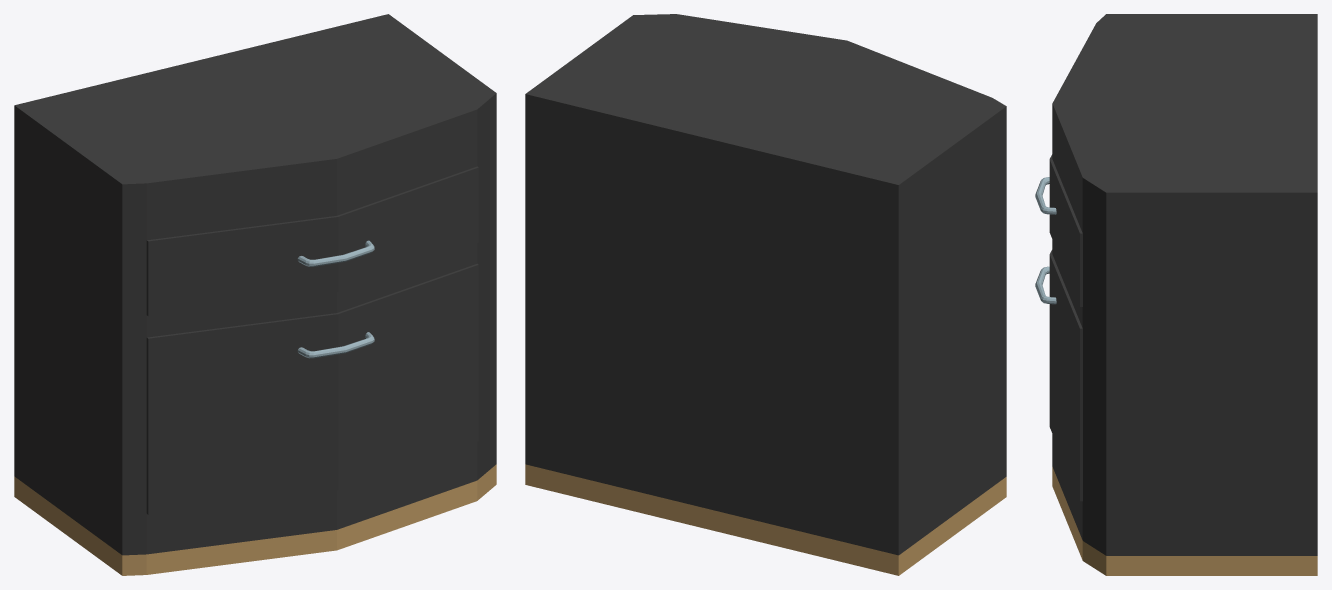
Rendered from DresserV1.fbx.
3 renders of one model, left to right at view 1: azimuth 30°, elevation 25°; view 2: azimuth 150°, elevation 25°; view 3: azimuth 270°, elevation 25°, orthographic. The views are drawn at different scales.
Parts seen in each view (by area): view 1: DresserV1; view 2: DresserV1; view 3: DresserV1.
Part boxes in pixels (<box>): DresserV1: <box>14,14,496,575</box>; DresserV1: <box>525,14,1006,575</box>; DresserV1: <box>1035,14,1317,575</box>.
Bounding box in the file's own units: 79.17 × 79.17 × 52.88.
